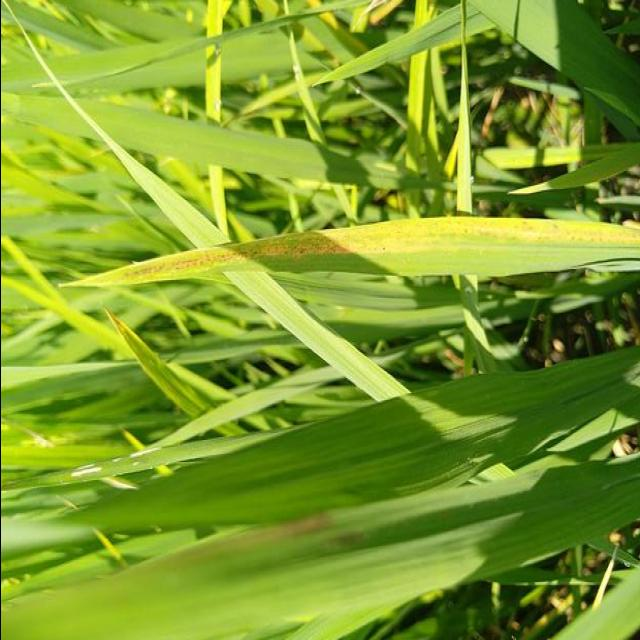Leaf Streak: (64, 218, 631, 286)
